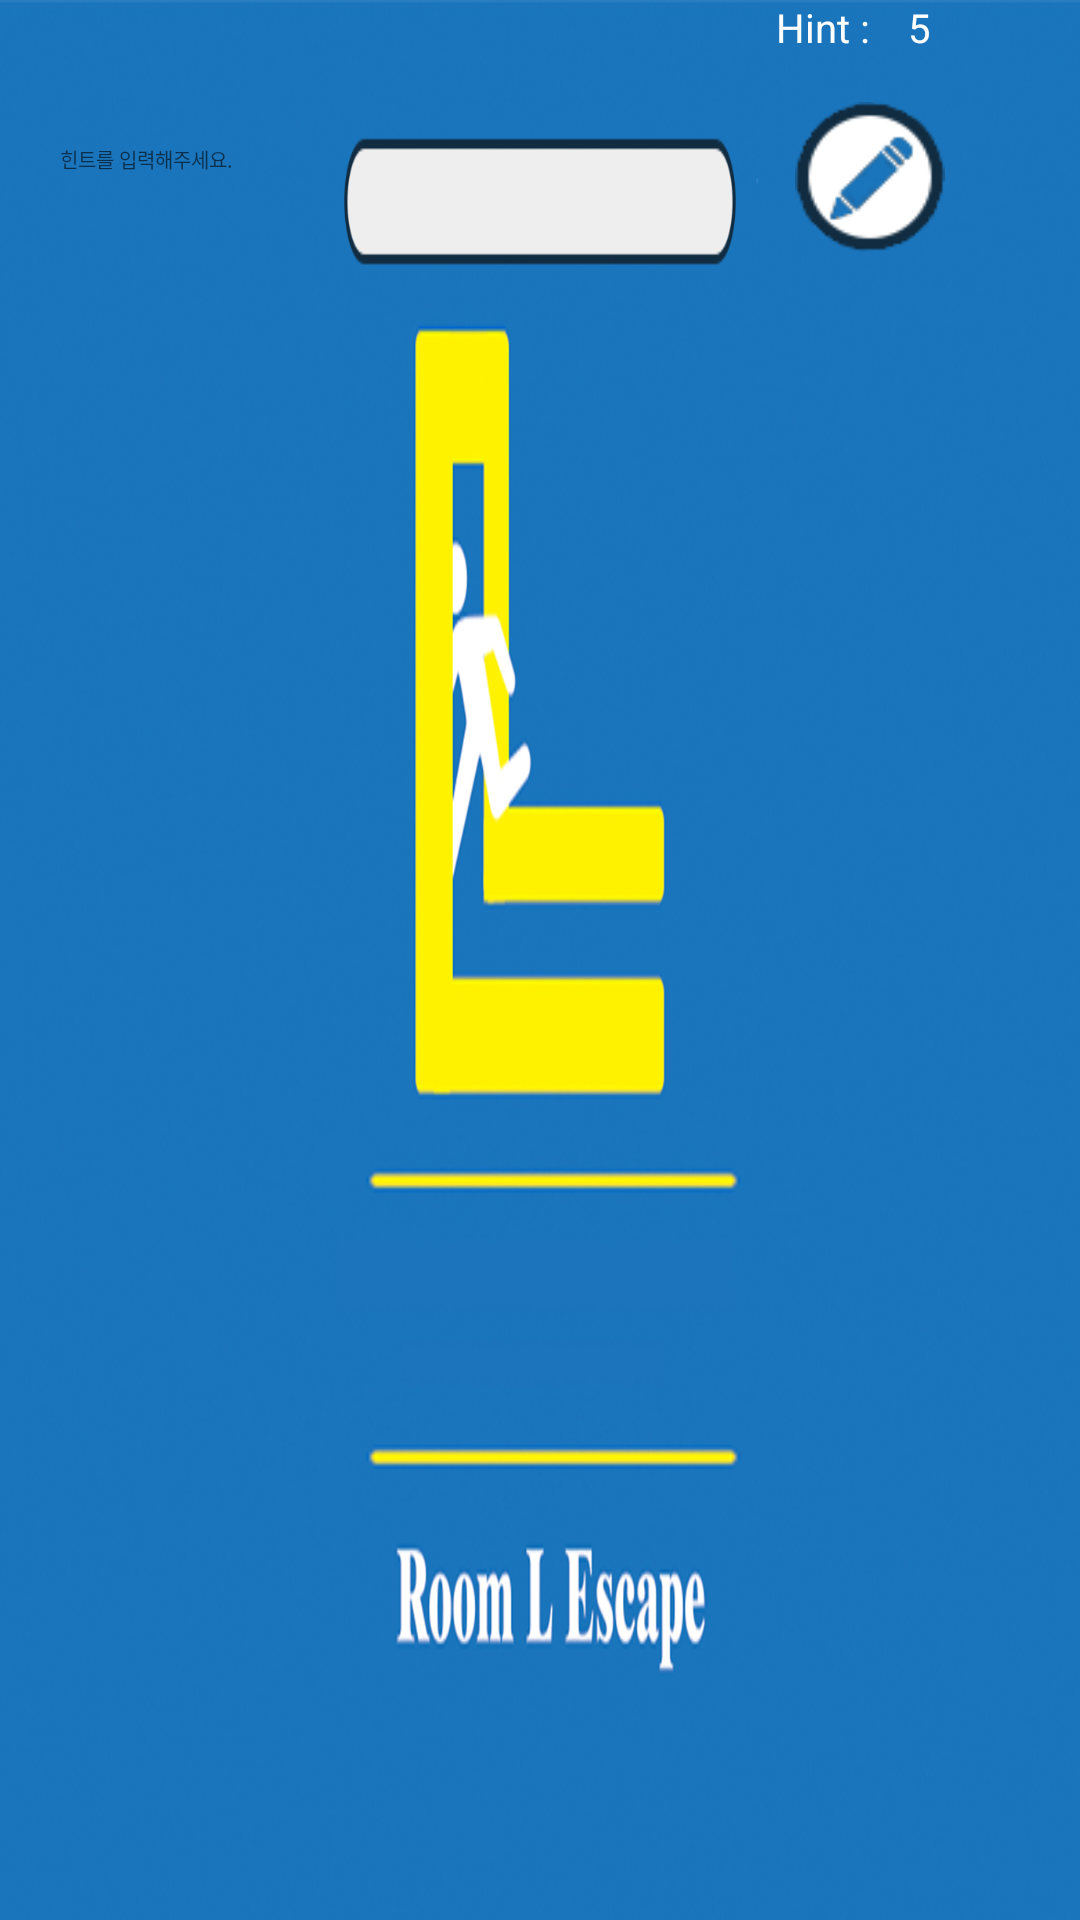

Icon click points for this 1080*1920 phone screenshot, format (x,y):
pen: (870,176)
